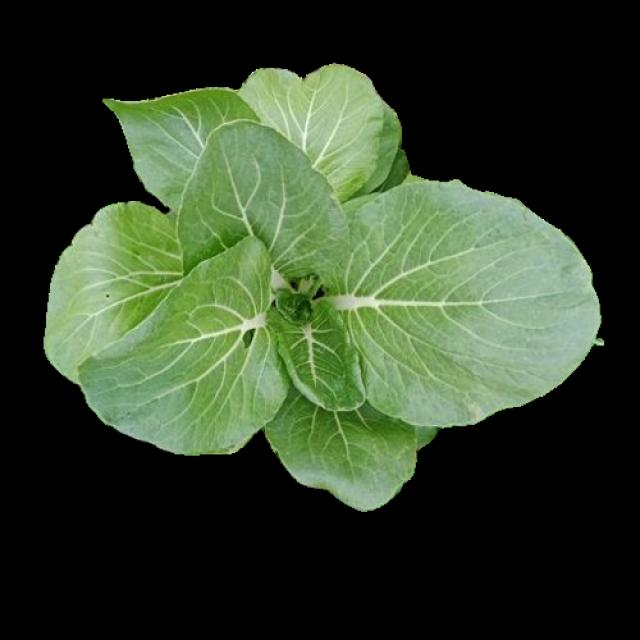healthy: (42, 64, 596, 502)
mature: (45, 67, 599, 504)
